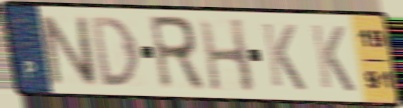D: (87, 14, 142, 89)
H: (196, 17, 258, 96)
K: (259, 20, 309, 94), (308, 21, 358, 95)
N: (35, 12, 102, 89)
R: (145, 13, 208, 94)
